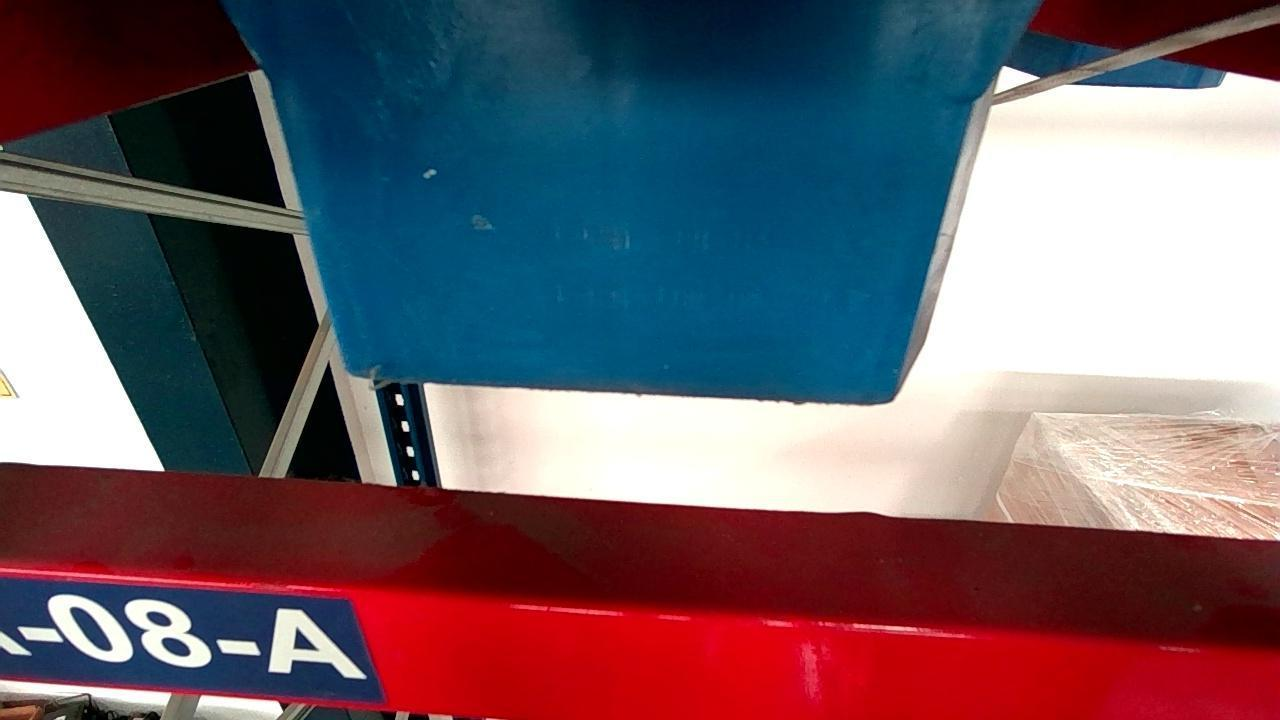h_rack: (0, 570, 1279, 717)
